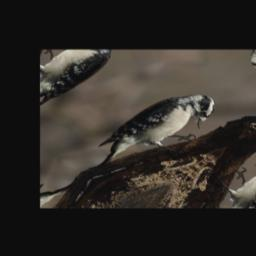Woodpecker: (77, 82, 233, 186)
